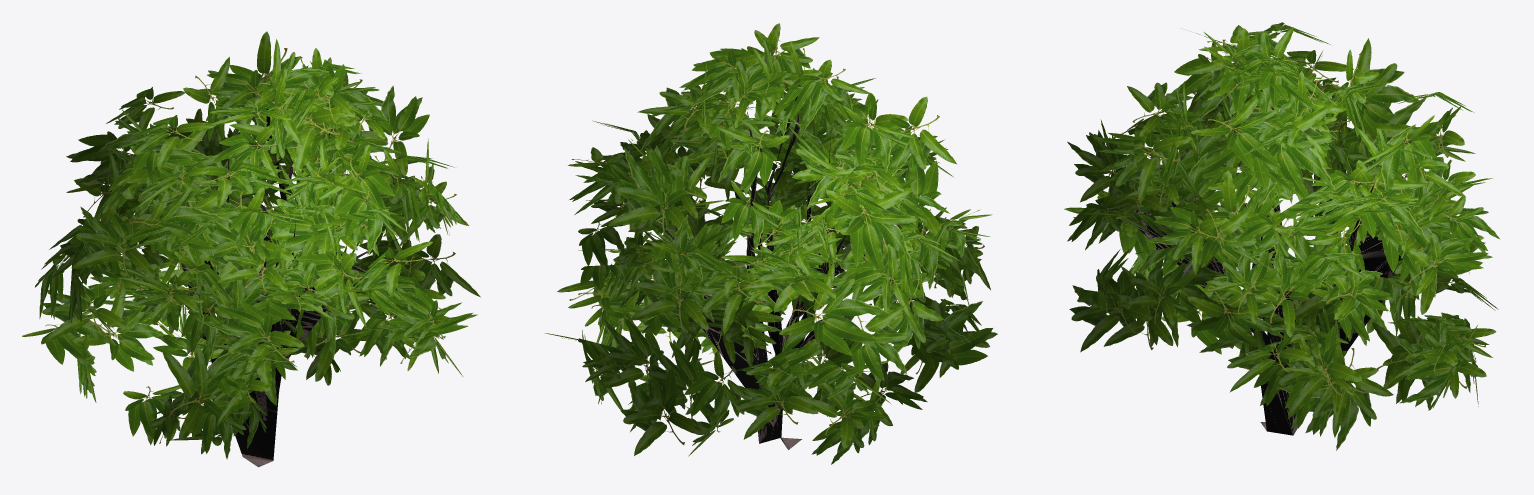
File: tree_lod1.glb
3 renders of one model, left to right at view 1: azimuth 30°, elevation 25°; view 2: azimuth 150°, elevation 25°; view 3: azimuth 270°, elevation 25°, orthographic. The views are drawn at different scales.
Visible parts, largest first — view 1: tree_lod1_mesh; view 2: tree_lod1_mesh; view 3: tree_lod1_mesh.
Part boxes in pixels (x1,y1,x2,y2): tree_lod1_mesh: (22, 31, 480, 467); tree_lod1_mesh: (545, 23, 997, 464); tree_lod1_mesh: (1064, 22, 1500, 450).
Bounding box in the file's own units: 7.5 × 7.24 × 7.36.
2 materials, 2 textured.
